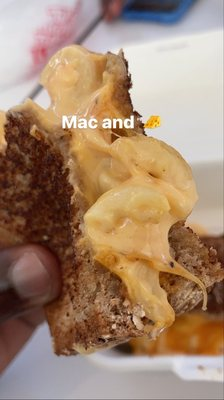soup: (0, 88, 211, 357)
